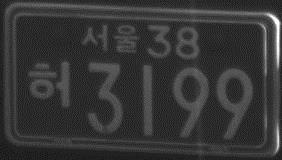1: (137, 61, 159, 139)
3: (85, 58, 126, 137), (146, 22, 173, 58)
8: (175, 25, 201, 61)
9: (169, 64, 212, 141), (216, 65, 255, 144)
서울_O: (80, 23, 139, 56)
허: (26, 59, 73, 109)
